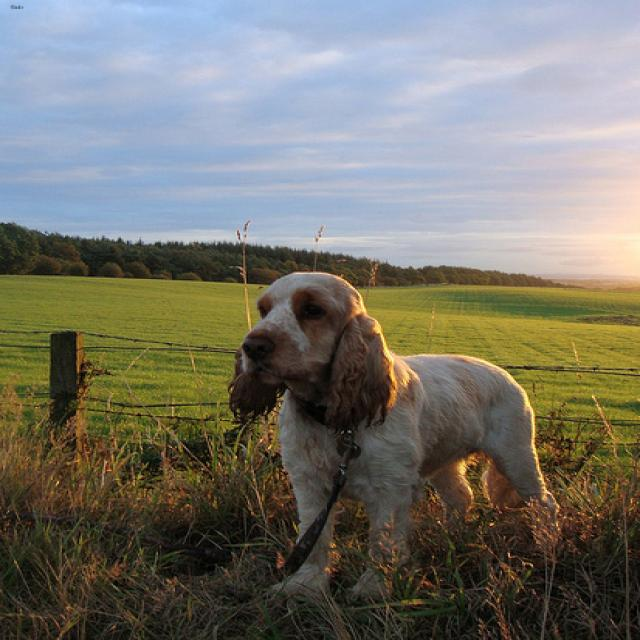dog-english_cocker_spaniel: (223, 261, 569, 607)
